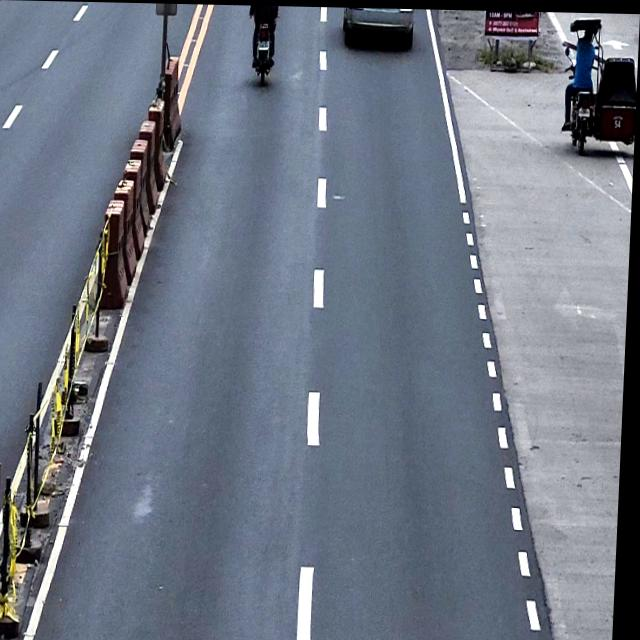Car: (341, 6, 415, 52)
License-Plate: (579, 103, 591, 115), (257, 40, 270, 48)
Motorcycle: (249, 4, 278, 83)
Tricycle: (562, 13, 640, 156)
